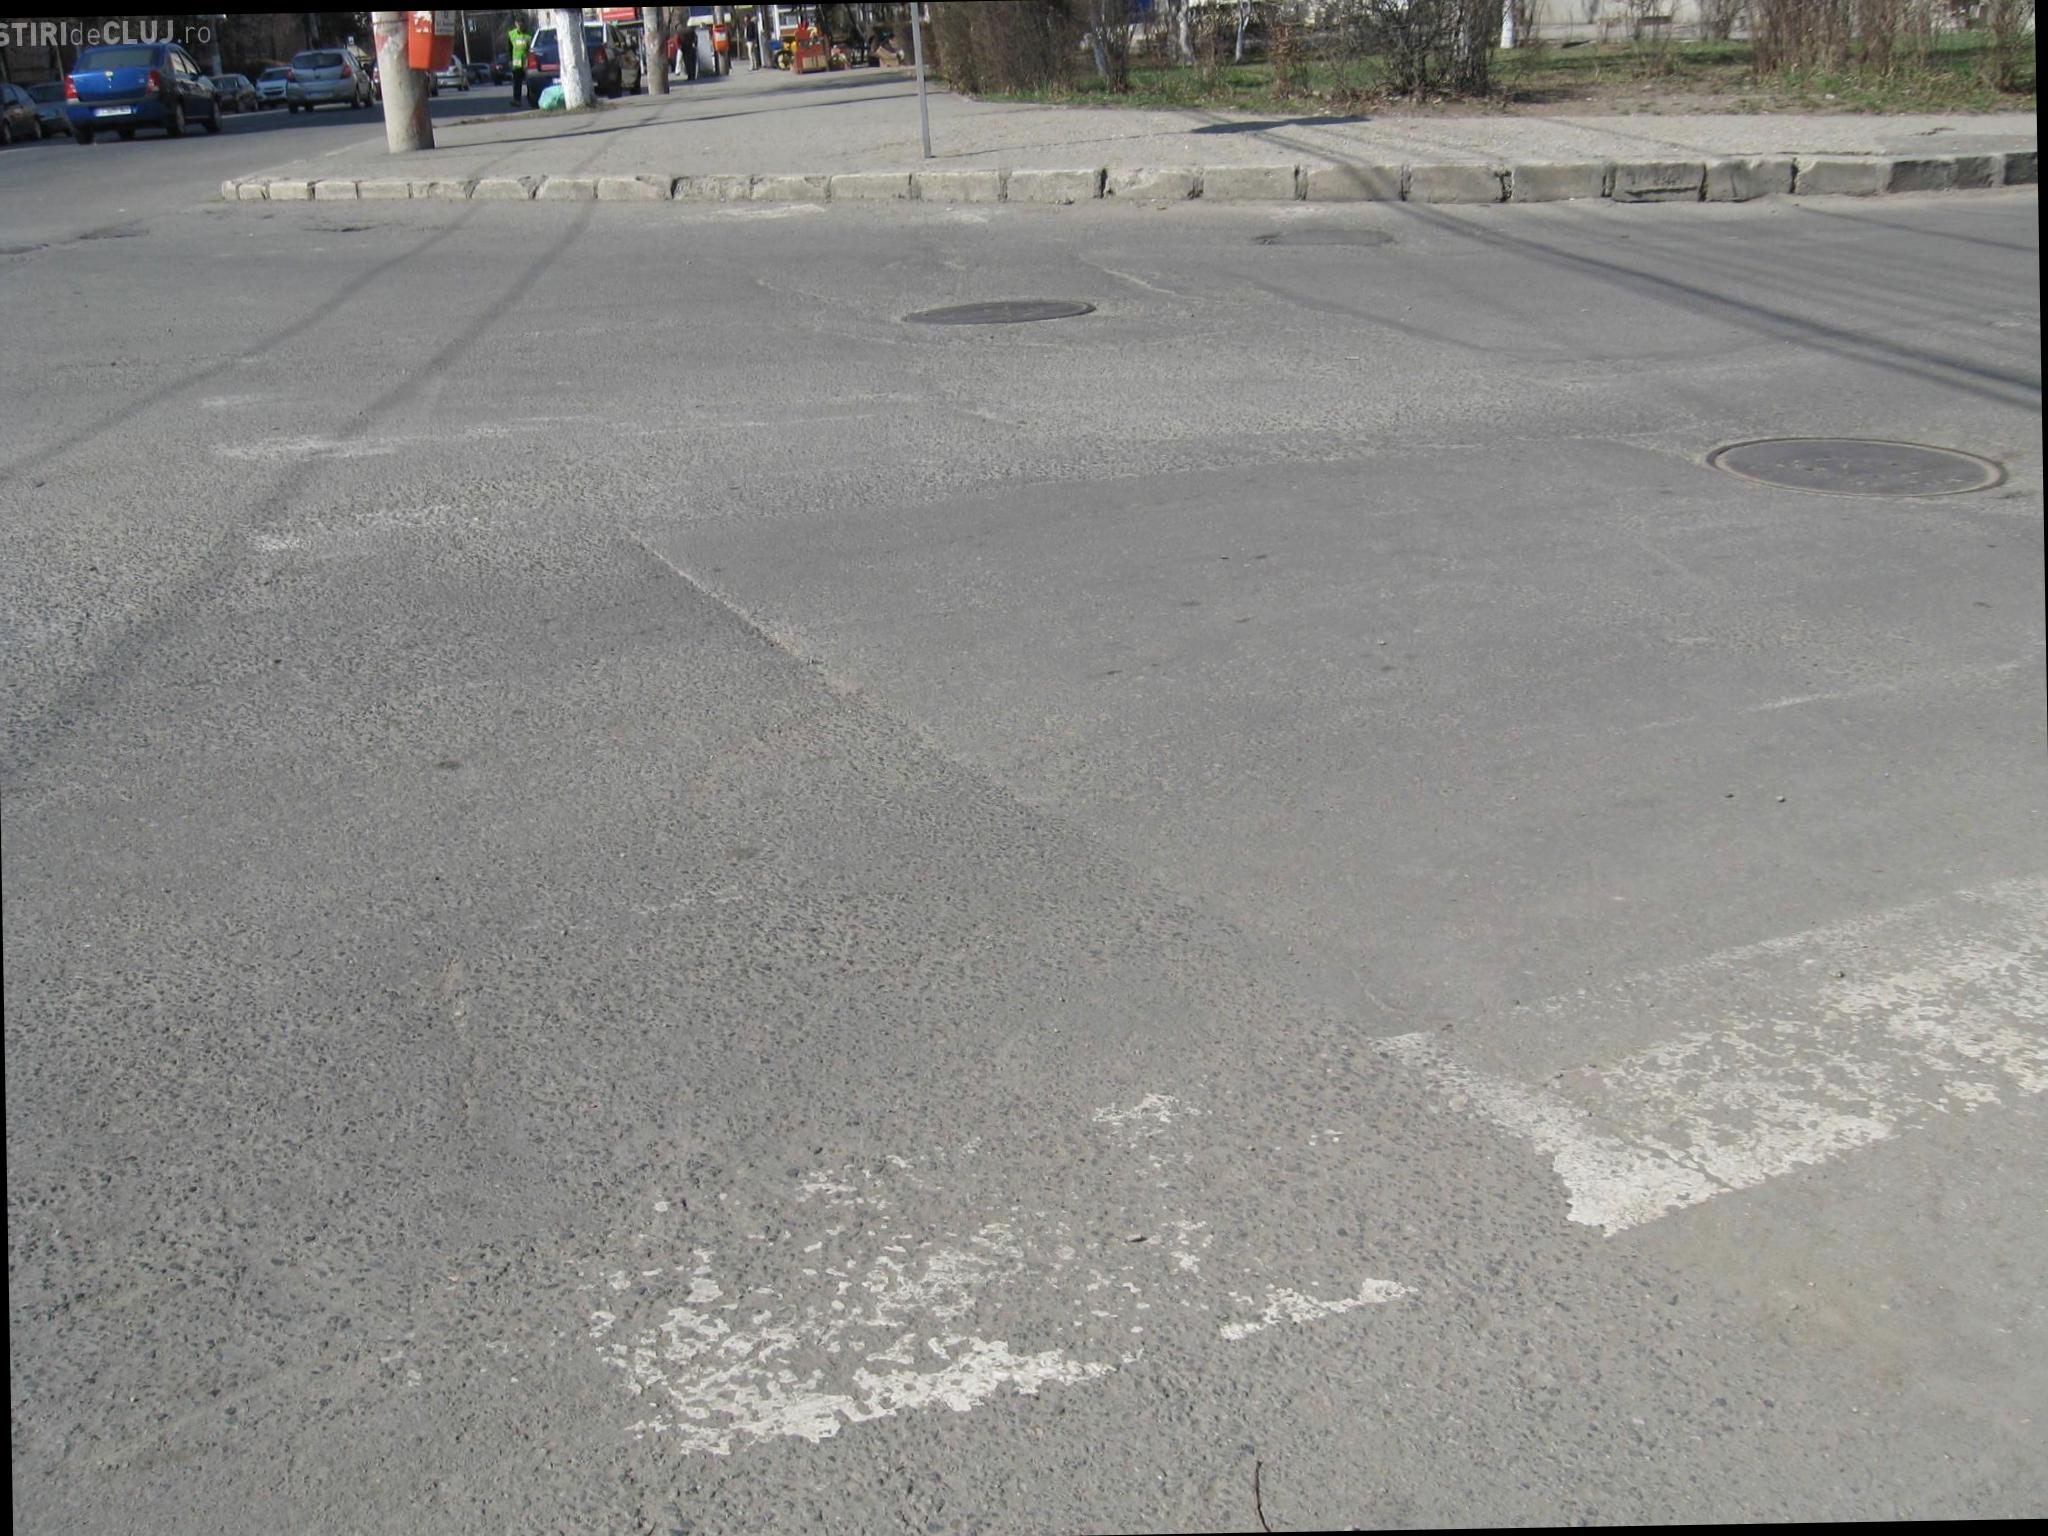faded_road_lines: (144, 127, 2048, 1536)
